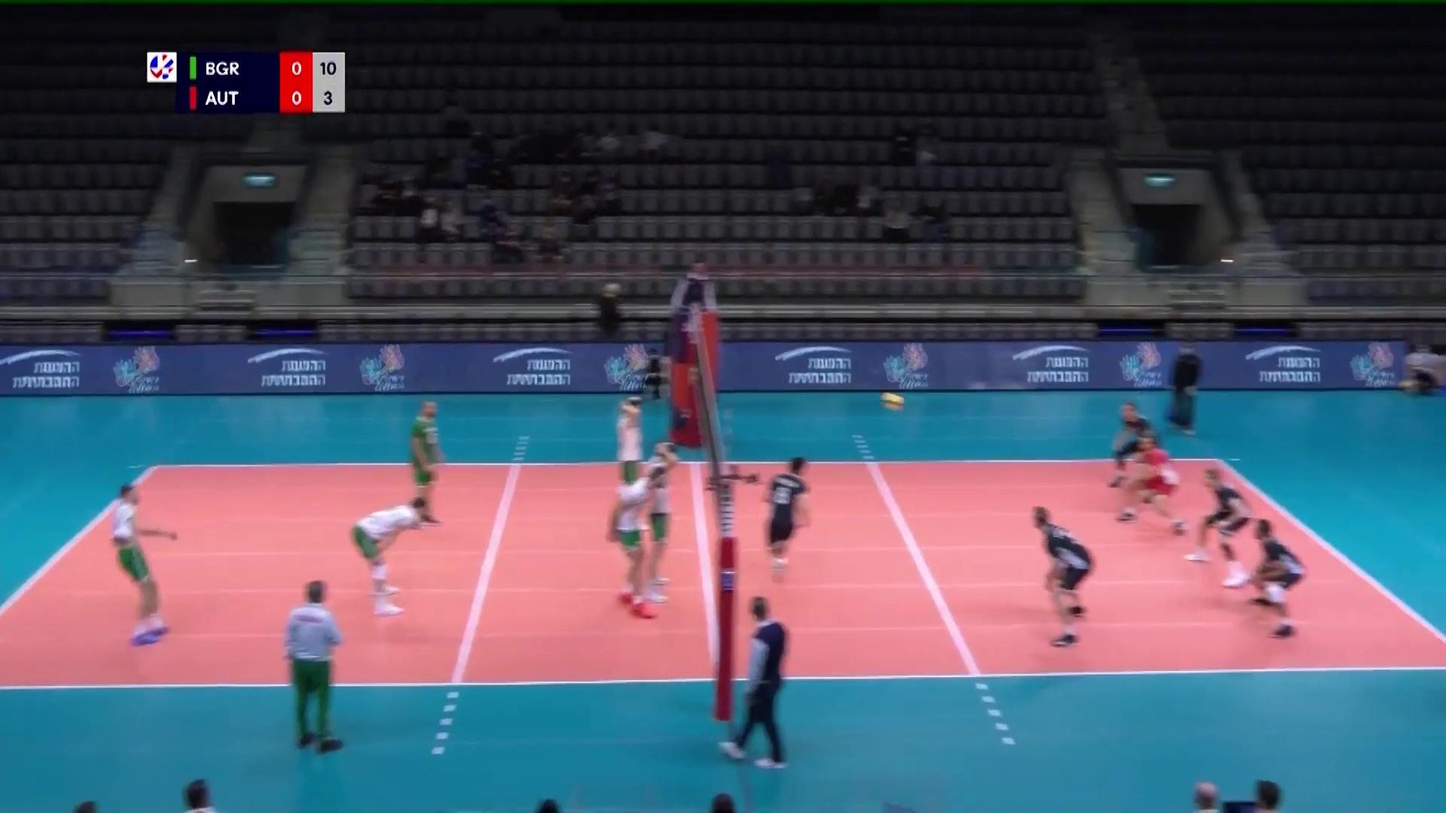ball: (879, 391, 905, 410)
